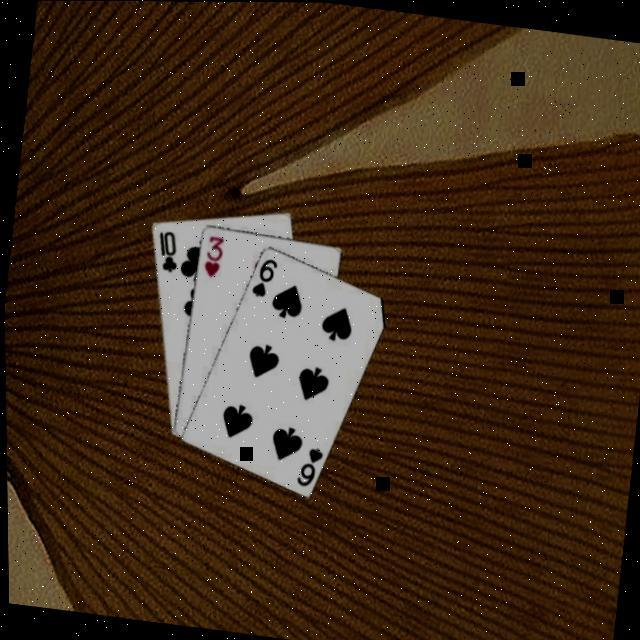10C: (152, 224, 184, 273)
3H: (200, 230, 228, 278)
6S: (248, 251, 282, 298), (293, 440, 327, 487)
